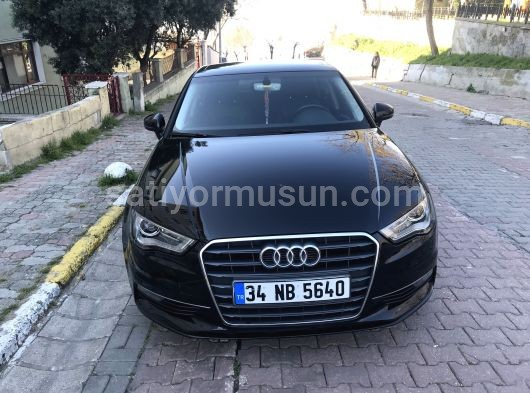audi: (255, 243, 325, 268)
